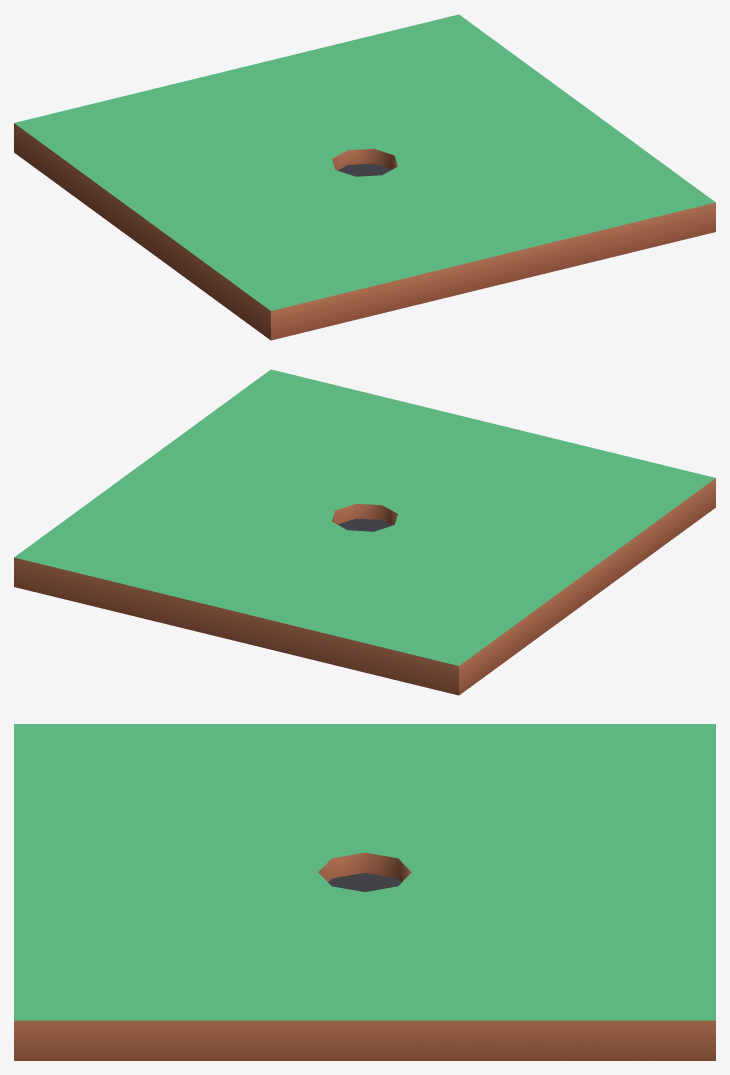
File: hole-open.glb
3 views of the same model, one above another, from view 1: azimuth 30°, elevation 25°; view 2: azimuth 150°, elevation 25°; view 3: azimuth 270°, elevation 25° (orthographic). The views are drawn at different scales.
Parts seen in each view (by area): view 1: hole-open; view 2: hole-open; view 3: hole-open.
Part boxes in pixels (<box>): hole-open: <box>14,14,715,340</box>; hole-open: <box>14,369,715,695</box>; hole-open: <box>14,724,715,1060</box>.
Bounding box in the file's own units: 0.9999 × 0.0633 × 0.9999.
1 material, 1 textured.
